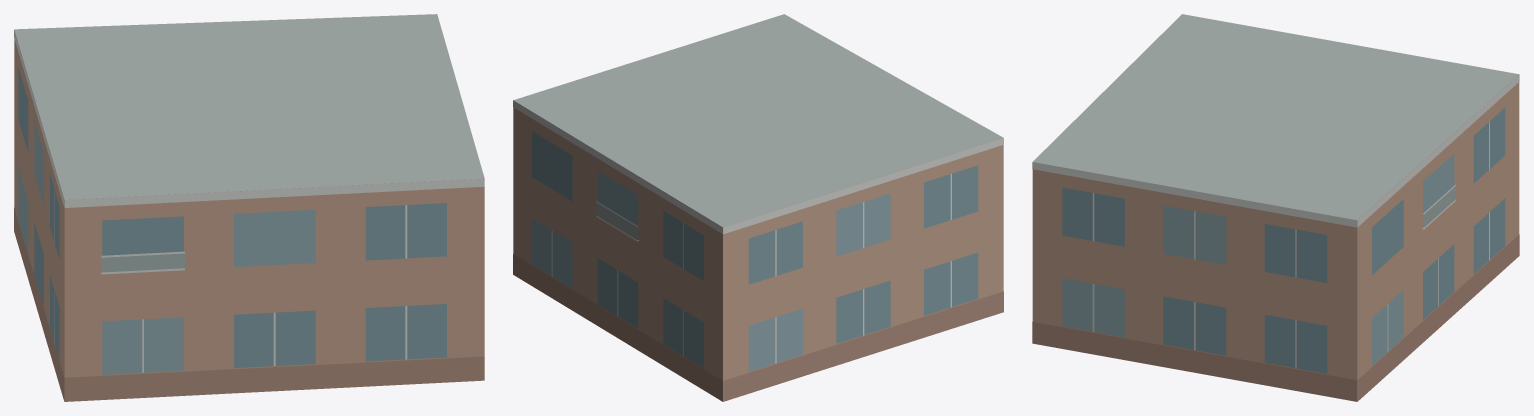
The model's file is survey-upis-32832066.glb.
3 views of the same model, side by side, from view 1: azimuth 30°, elevation 25°; view 2: azimuth 150°, elevation 25°; view 3: azimuth 270°, elevation 25° (orthographic). The views are drawn at different scales.
Parts seen in each view (by area): view 1: survey-upis-32832066.tmp; view 2: survey-upis-32832066.tmp; view 3: survey-upis-32832066.tmp.
Boxes of the visible parts, box(x1,y1,x2,y2) form: survey-upis-32832066.tmp: box(14, 14, 484, 401); survey-upis-32832066.tmp: box(513, 14, 1003, 401); survey-upis-32832066.tmp: box(1032, 14, 1519, 401).
Size of the model in its own units: 14.88 by 6.1 by 14.84.
